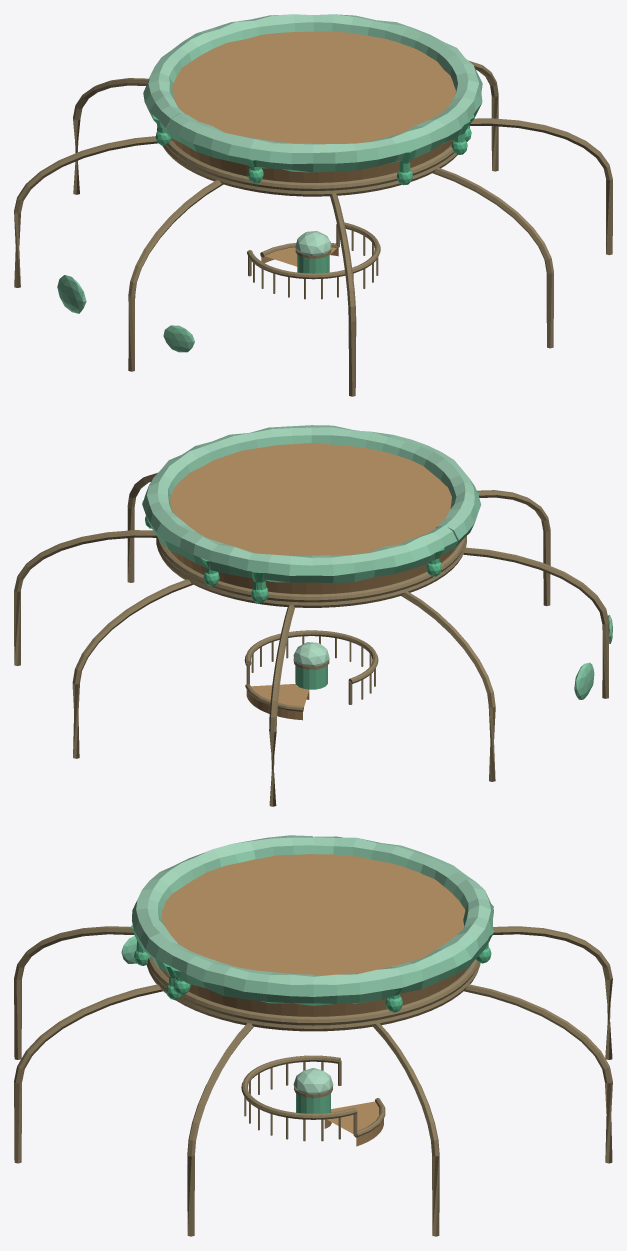
File: goo_jar_trim_2_top.fbx
3 renders of one model, top to bottom at view 1: azimuth 30°, elevation 25°; view 2: azimuth 150°, elevation 25°; view 3: azimuth 270°, elevation 25°, orthographic. The views are drawn at different scales.
Parts seen in each view (by area): view 1: goo_jar_trim_2_top; view 2: goo_jar_trim_2_top; view 3: goo_jar_trim_2_top.
Boxes of the visible parts, left/top/right/bottom form: goo_jar_trim_2_top: left=14, top=14, right=612, bottom=396; goo_jar_trim_2_top: left=14, top=425, right=612, bottom=806; goo_jar_trim_2_top: left=14, top=835, right=612, bottom=1236.
Size of the model in its own units: 53.09 by 20.45 by 50.92.
